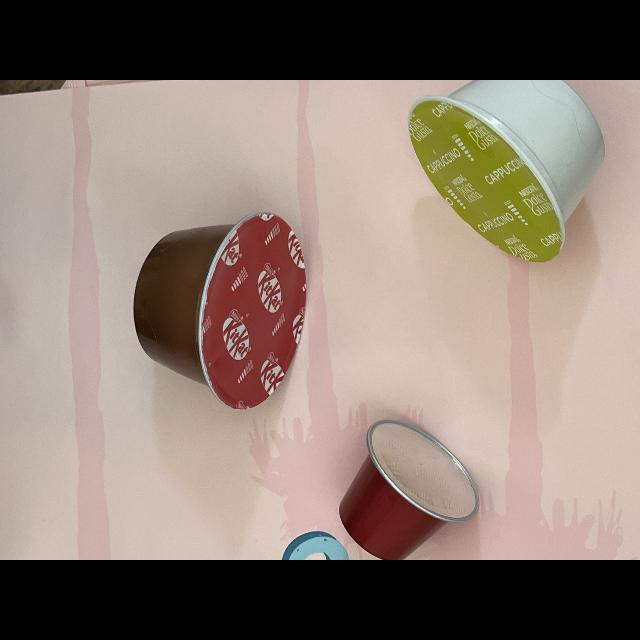intact_capsule: (401, 80, 611, 270), (129, 210, 313, 410), (333, 416, 483, 560)
